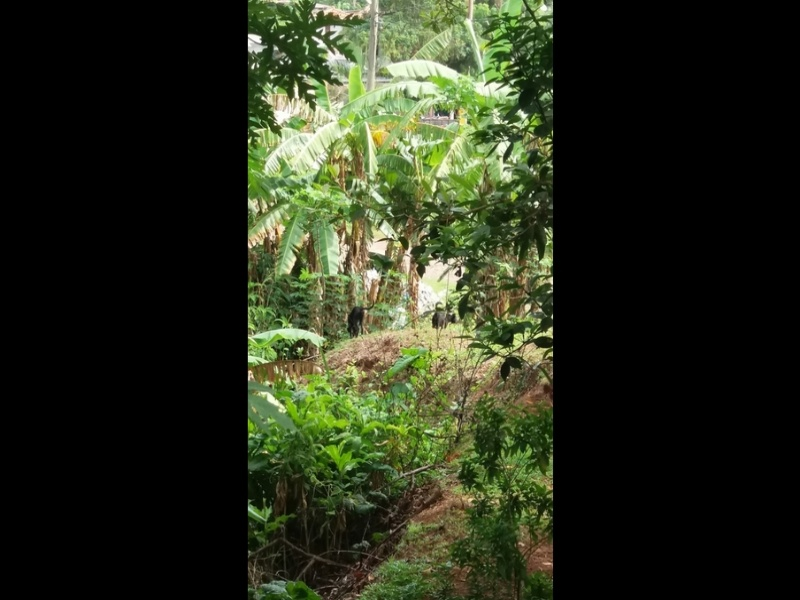dog: (343, 302, 371, 341)
